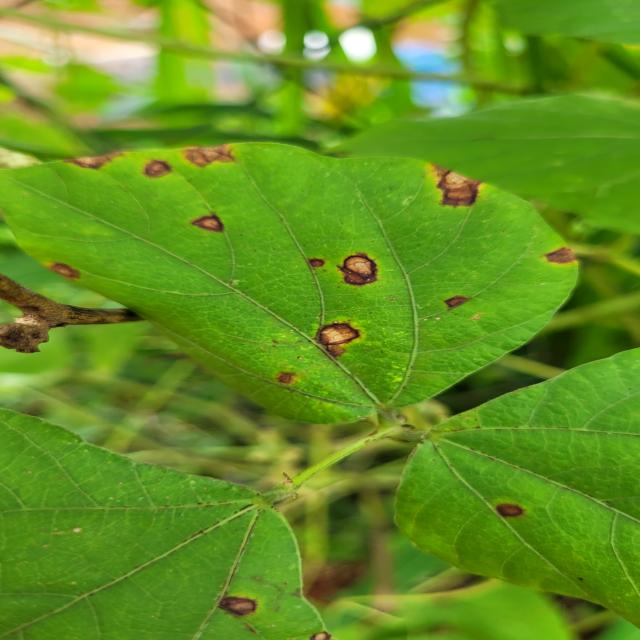Dolicos bean_cercospora leaf spot: (0, 137, 585, 427), (393, 335, 640, 627), (0, 433, 316, 640)
Dolicos bean_healthy: (305, 92, 640, 246)
